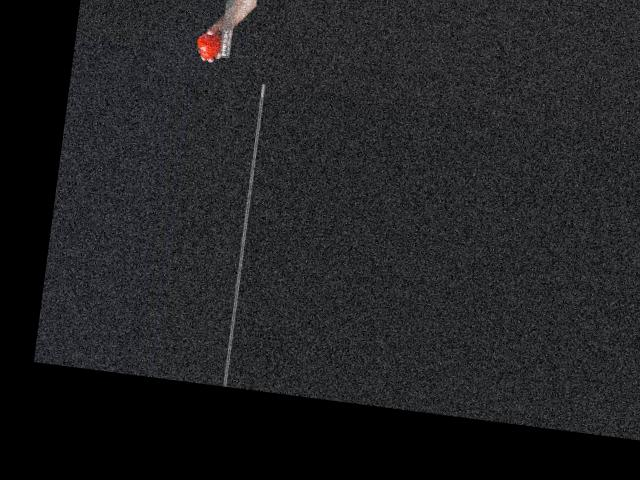tomato: (194, 32, 222, 60)
